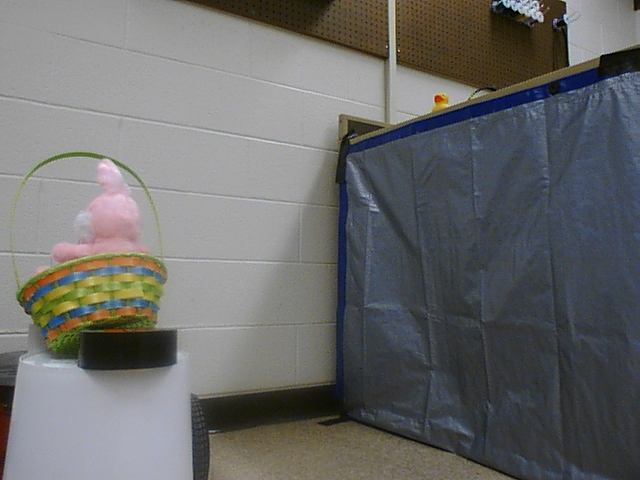bunny: (4, 143, 179, 366)
